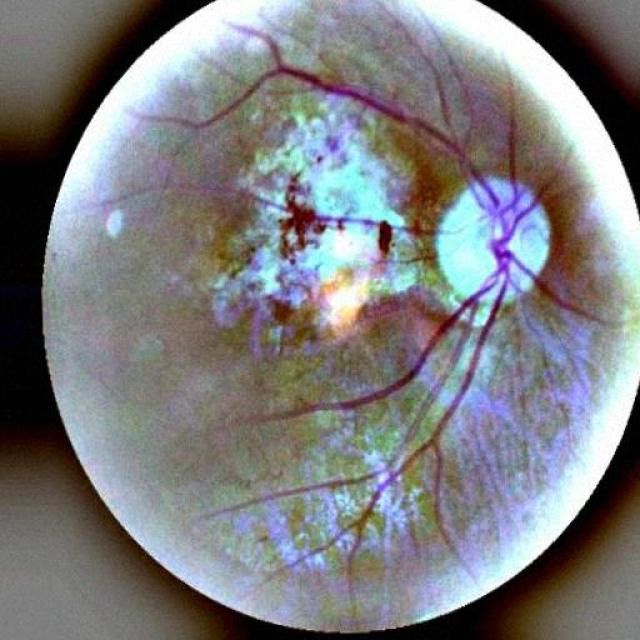Nerves: (278, 242, 511, 490), (249, 192, 436, 235)
Optic Disk: (200, 62, 495, 202), (436, 178, 550, 301)
